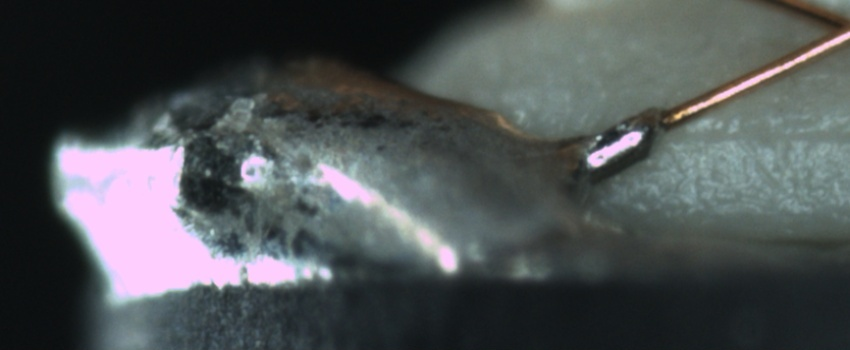CL: (795, 2, 850, 58)
DL: (666, 104, 850, 168)
TB: (581, 110, 669, 178)
TTCW: (570, 76, 747, 183)
